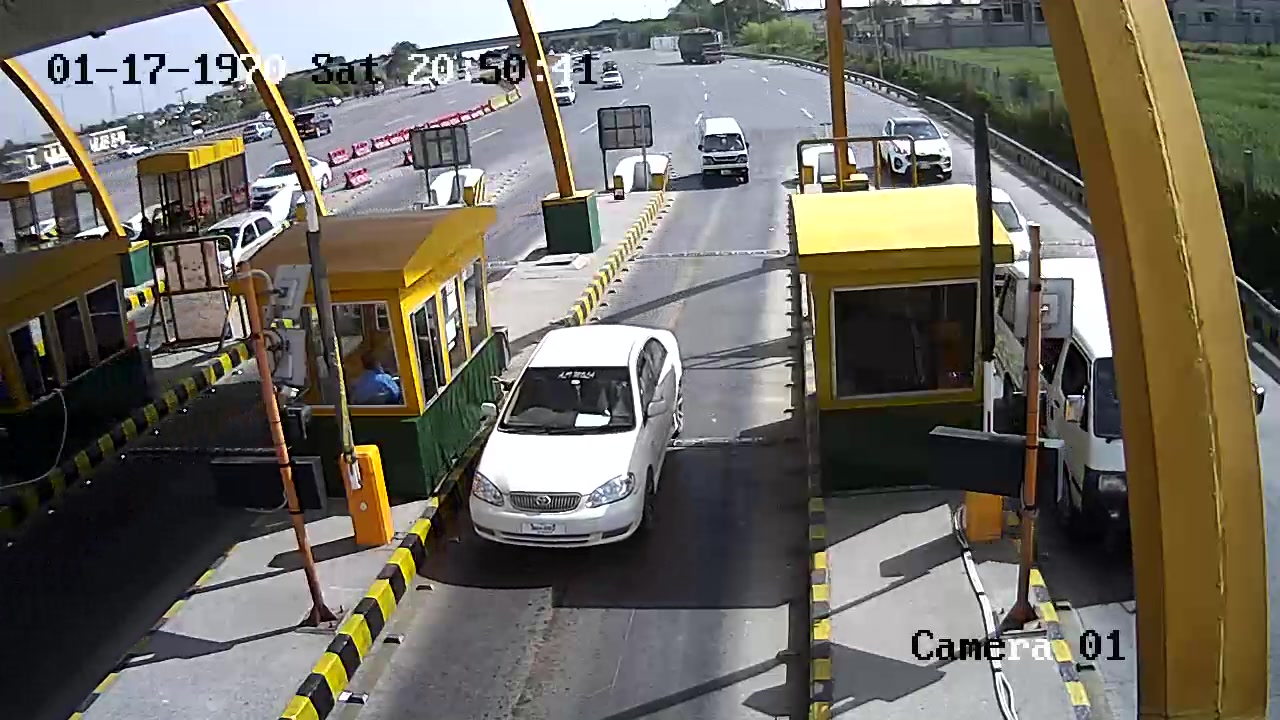F1: (469, 322, 691, 567)
